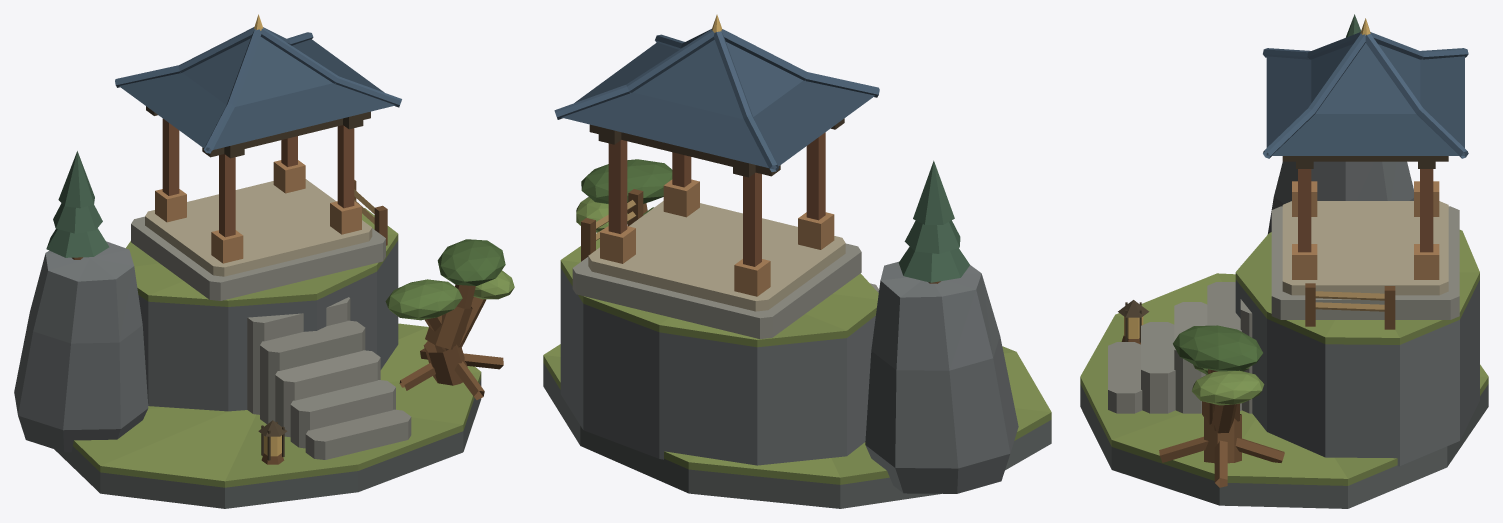
The picture shows the model from 3 angles, left to right: view 1: azimuth 30°, elevation 25°; view 2: azimuth 150°, elevation 25°; view 3: azimuth 270°, elevation 25°; orthographic projection. The views are drawn at different scales.
Parts seen in each view (by area): view 1: S15_山寺台地; view 2: S15_山寺台地; view 3: S15_山寺台地.
Part boxes in pixels (x1,y1,x2,y2): S15_山寺台地: [14, 14, 514, 508]; S15_山寺台地: [543, 14, 1051, 508]; S15_山寺台地: [1080, 14, 1488, 508].
Bounding box in the file's own units: 4.92 × 4.05 × 3.7.
